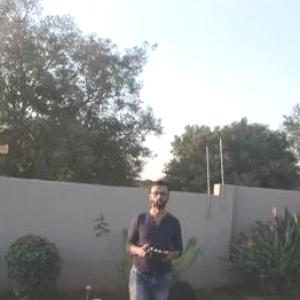follow: (122, 167, 186, 299)
